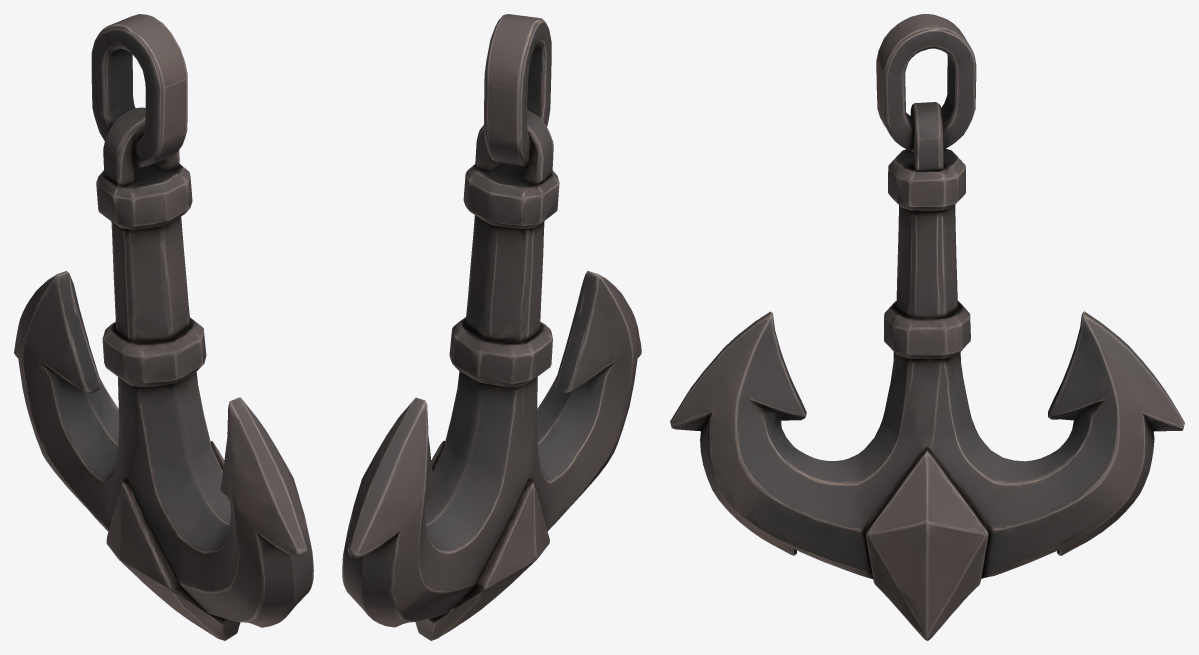
3 renders of one model, left to right at view 1: azimuth 30°, elevation 25°; view 2: azimuth 150°, elevation 25°; view 3: azimuth 270°, elevation 25°, orthographic. The views are drawn at different scales.
Parts seen in each view (by area): view 1: tripo_node_313b5f0a-278d-4bcb-bacd-6c7ef17454d6; view 2: tripo_node_313b5f0a-278d-4bcb-bacd-6c7ef17454d6; view 3: tripo_node_313b5f0a-278d-4bcb-bacd-6c7ef17454d6.
Part boxes in pixels (x1,y1,x2,y2): tripo_node_313b5f0a-278d-4bcb-bacd-6c7ef17454d6: (14,14,313,640); tripo_node_313b5f0a-278d-4bcb-bacd-6c7ef17454d6: (342,14,641,640); tripo_node_313b5f0a-278d-4bcb-bacd-6c7ef17454d6: (670,14,1184,640).
Bounding box in the file's own units: 0.2299 × 1 × 0.8022.
1 material, 1 textured.
